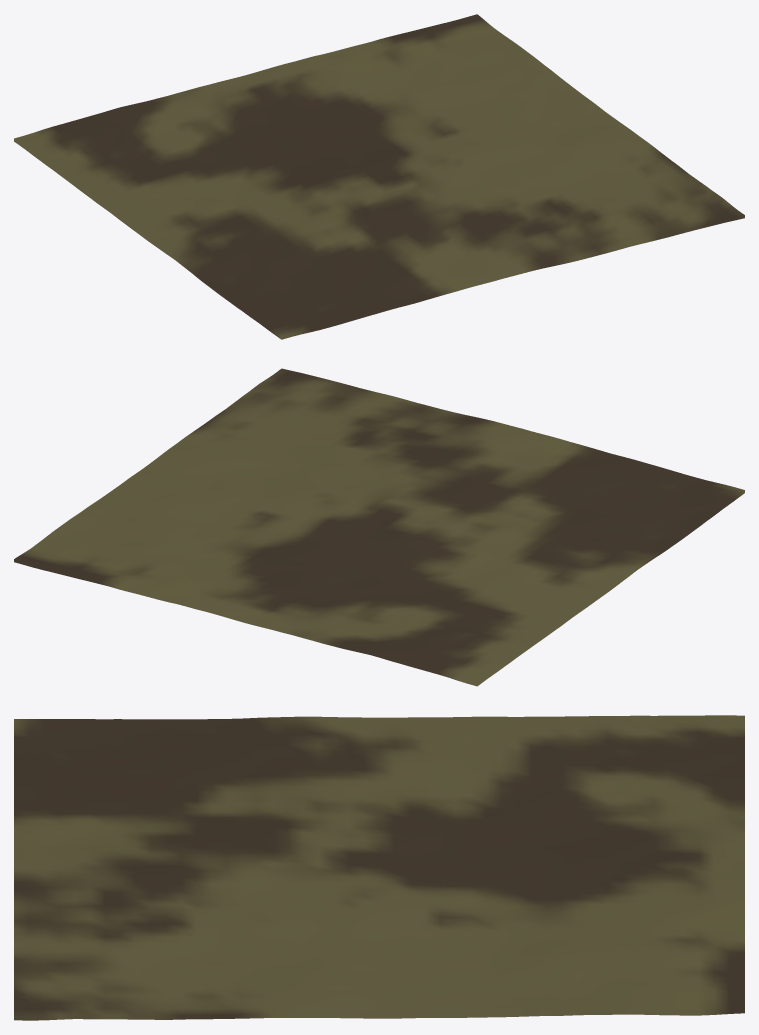
Rendered from land_m_07_00.glb.
3 renders of one model, top to bottom at view 1: azimuth 30°, elevation 25°; view 2: azimuth 150°, elevation 25°; view 3: azimuth 270°, elevation 25°, orthographic. The views are drawn at different scales.
Visible parts, largest first — view 1: land_m_07_00; view 2: land_m_07_00; view 3: land_m_07_00.
Part boxes in pixels (box(x1,y1,x2,y2)): land_m_07_00: box(14, 14, 744, 339); land_m_07_00: box(14, 368, 744, 686); land_m_07_00: box(14, 715, 744, 1020).
Size of the model in its own units: 960 by 33.88 by 960.
